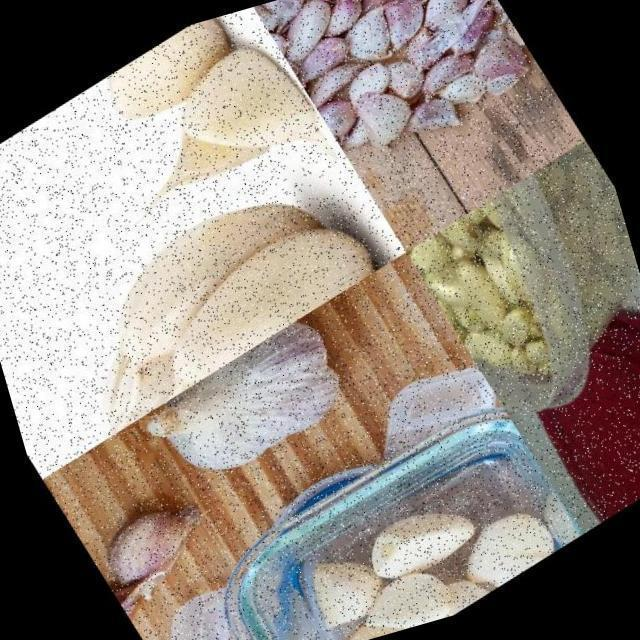garlic: (0, 134, 411, 474), (61, 0, 348, 256), (390, 134, 640, 418), (267, 440, 571, 640), (249, 0, 556, 196), (122, 304, 380, 516), (77, 481, 240, 640)
